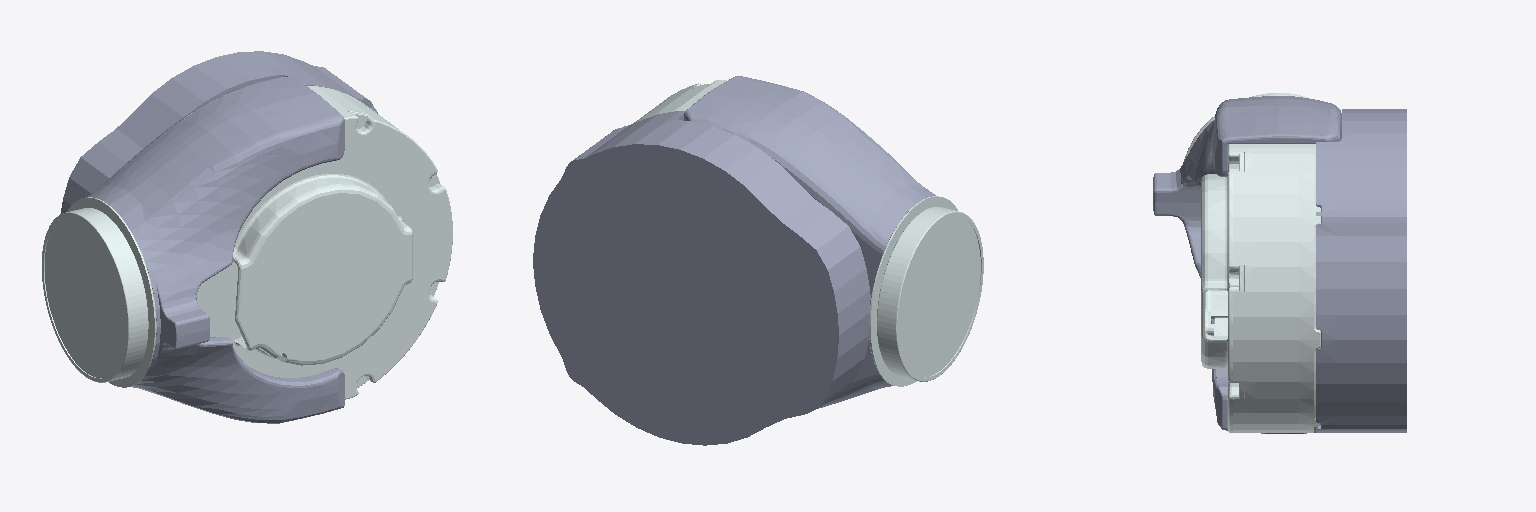
The model's file is hip.obj.
The picture shows the model from 3 angles: view 1: azimuth 30°, elevation 25°; view 2: azimuth 150°, elevation 25°; view 3: azimuth 270°, elevation 25°; orthographic projection.
Visible parts, largest first — view 1: hipFL0831; view 2: hipFL0831; view 3: hipFL0831.
Boxes of the visible parts, x1=… form: hipFL0831: x1=42, y1=51, x2=452, y2=423; hipFL0831: x1=533, y1=76, x2=983, y2=445; hipFL0831: x1=1153, y1=93, x2=1406, y2=433.
Bounding box in the file's own units: 0.1181 × 0.0985 × 0.0756.